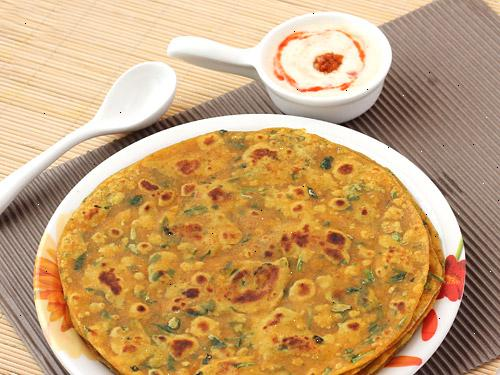thepla: (110, 144, 417, 370)
yogurt: (250, 22, 385, 108)
